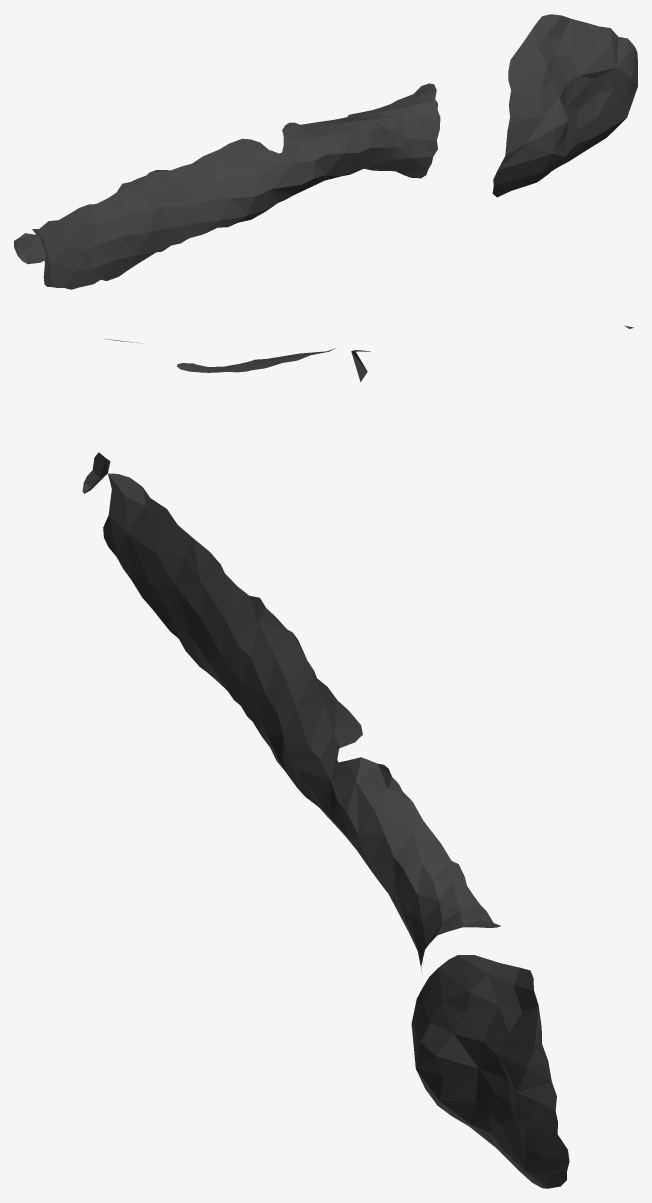
File: Oesophagus_Oesophagus.glb
3 views of the same model, one above another, from view 1: azimuth 30°, elevation 25°; view 2: azimuth 150°, elevation 25°; view 3: azimuth 270°, elevation 25° (orthographic). The views are drawn at different scales.
Visible parts, largest first — view 1: Oesophagus_Oesophagus; view 2: Oesophagus_Oesophagus; view 3: Oesophagus_Oesophagus.
Boxes of the visible parts, x1,y1,x2,y2 form: Oesophagus_Oesophagus: [14, 14, 637, 289]; Oesophagus_Oesophagus: [104, 325, 633, 381]; Oesophagus_Oesophagus: [82, 452, 569, 1188].
Size of the model in its own units: 0.0575 by 0.0149 by 0.024.
1 material, 1 textured.
